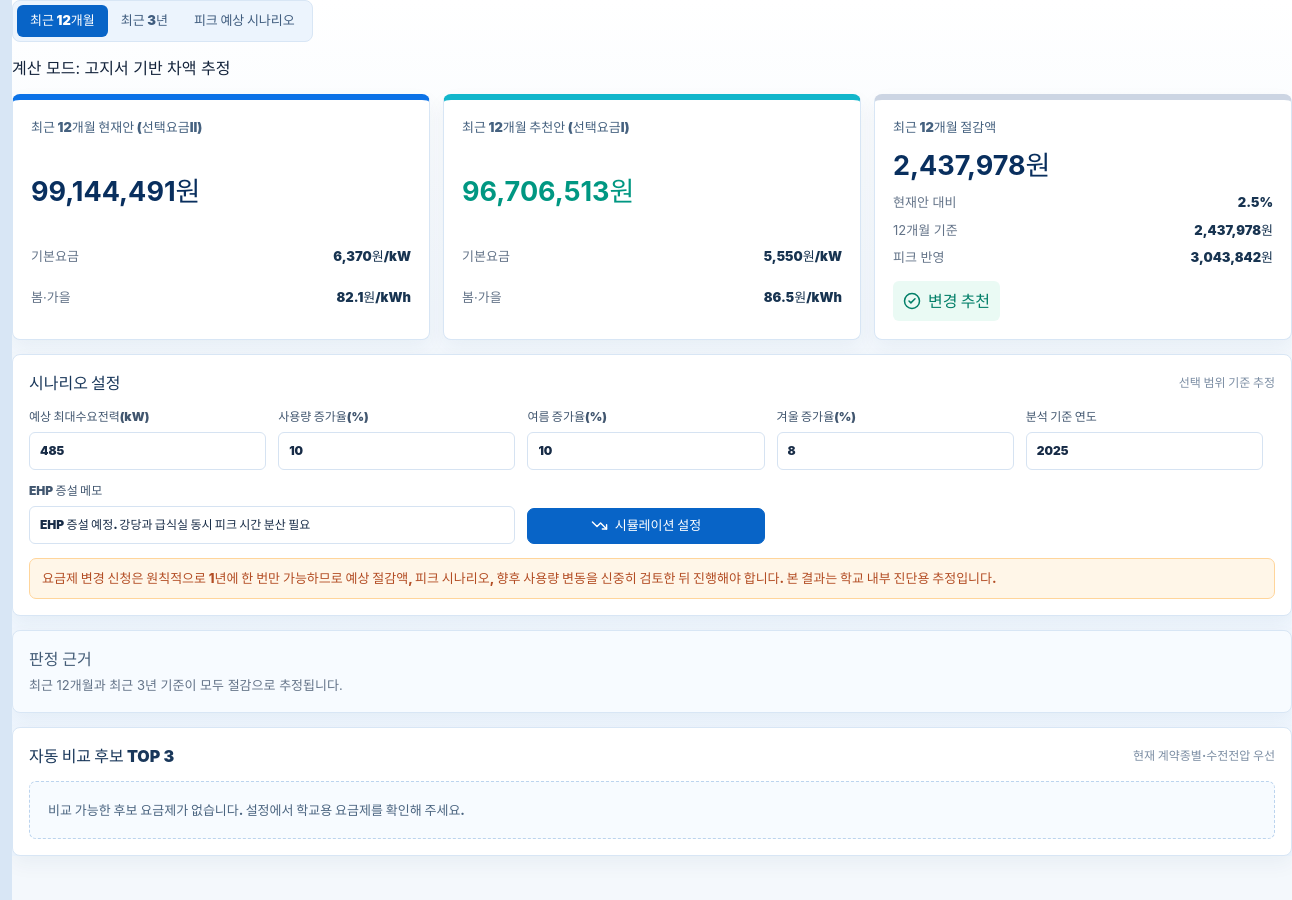
Test: rate simulator usability harness › shows accessible validation and does not persist invalid 사용량 증가율(%)
This screenshot has width=1292, height=900.
Replace the text in the number field labelled "사용량 증가율(%)" with "101" at (397, 451), box [278,432,515,470]
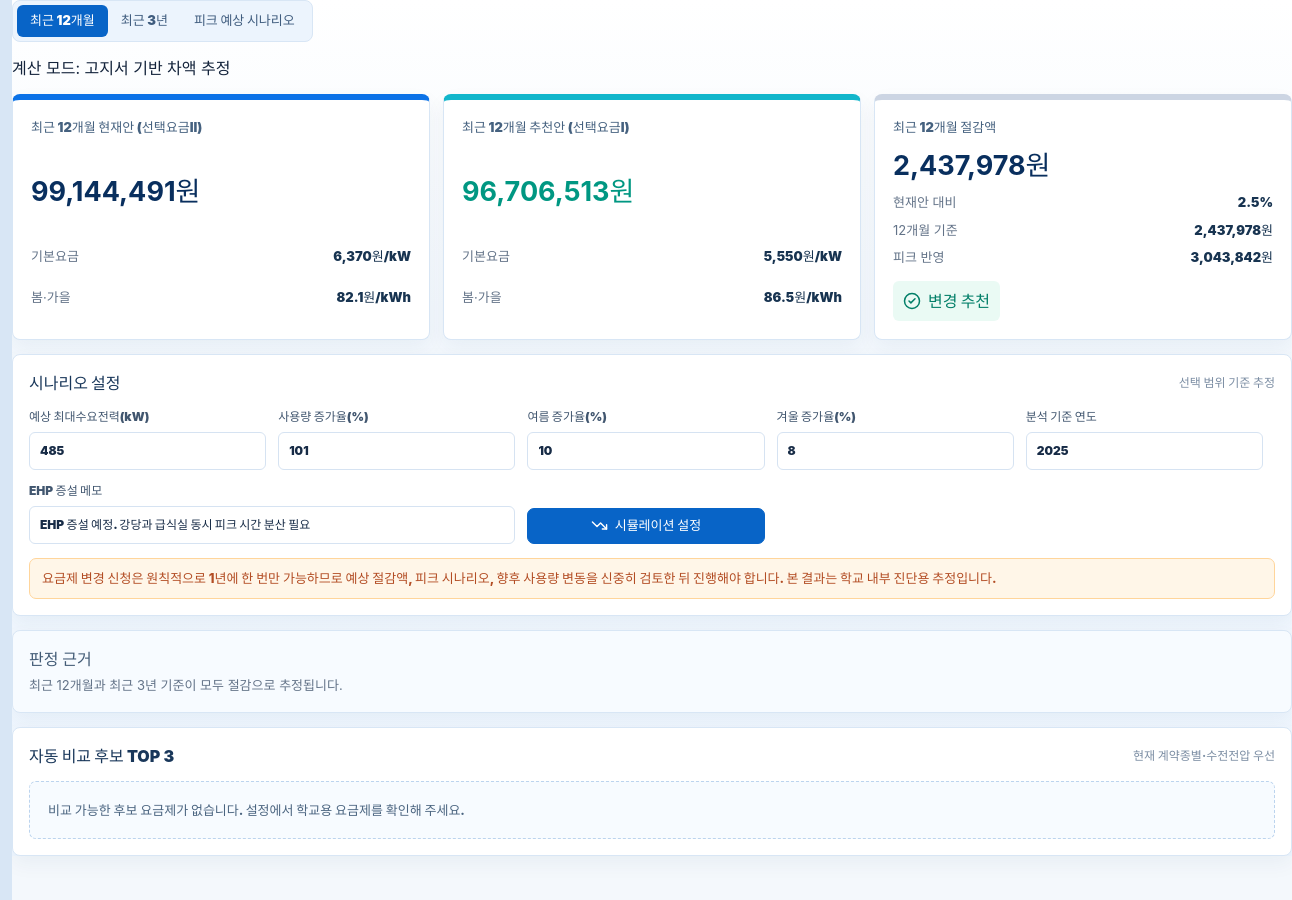
Click the button "시뮬레이션 설정".
click(646, 526)  # box [527,508,765,544]
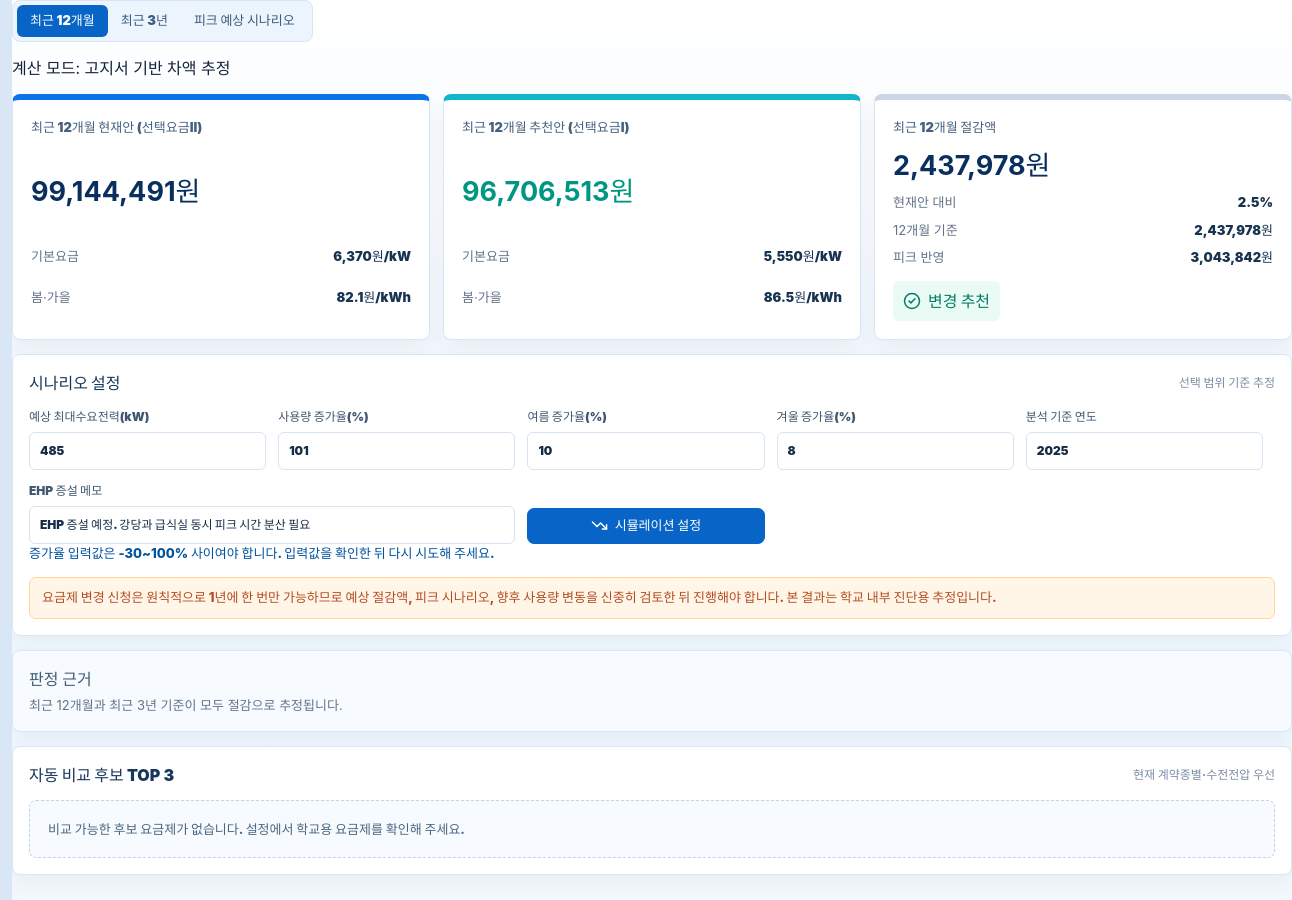
Expected: the message shows "입력", [29,545,494,561]
